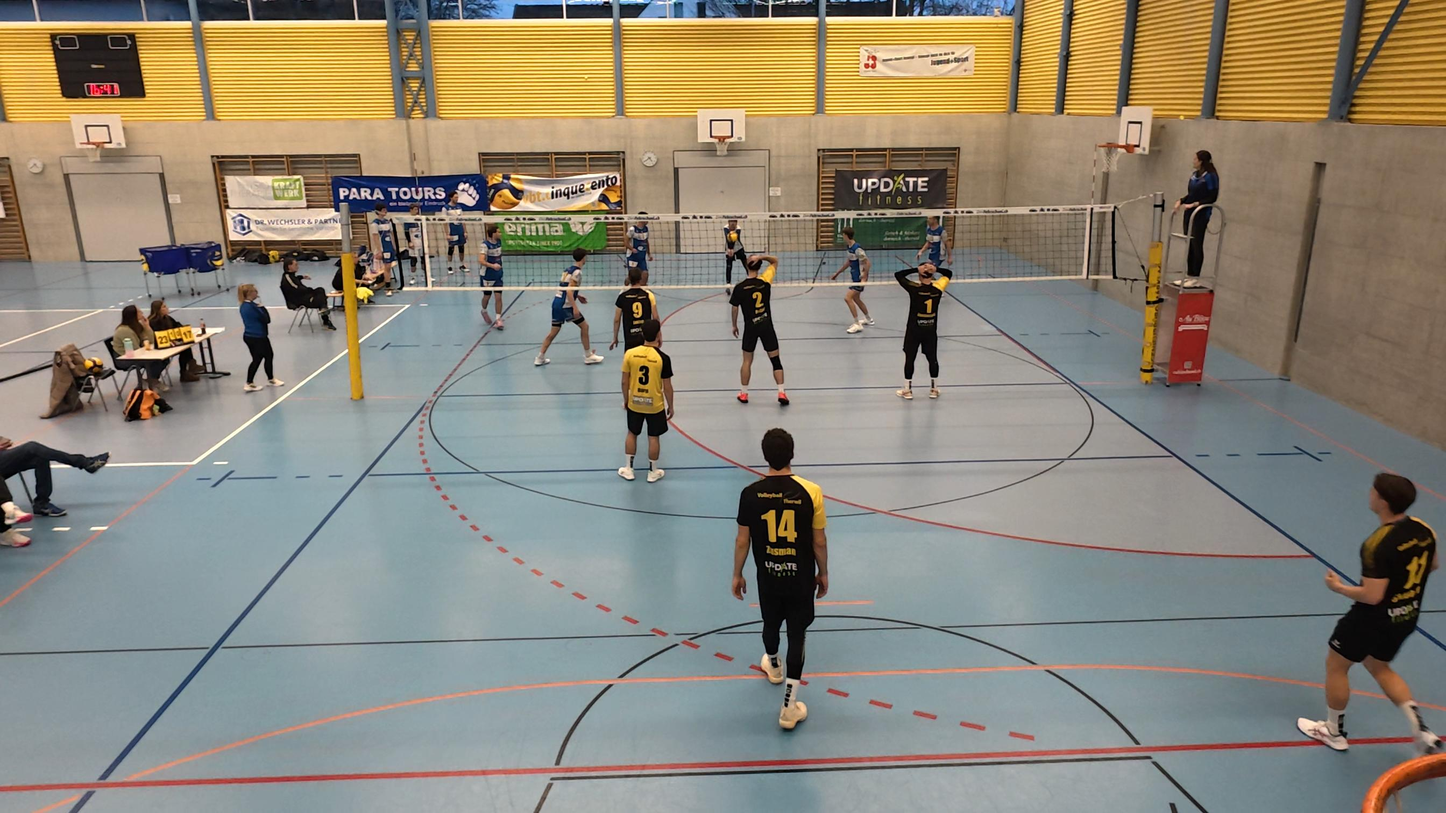Player: (1298, 473, 1443, 754), (734, 427, 832, 729), (729, 254, 790, 408), (620, 329, 676, 481), (891, 262, 947, 401), (535, 251, 599, 367), (612, 261, 663, 350), (836, 227, 872, 336), (481, 219, 508, 332), (915, 212, 956, 286), (623, 220, 654, 285)
Receive: (720, 213, 748, 295)
ball: (726, 230, 740, 241)
